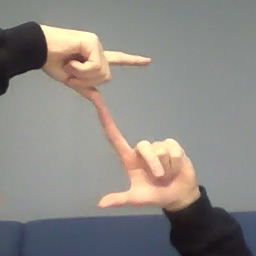Z: (28, 18, 205, 216)
